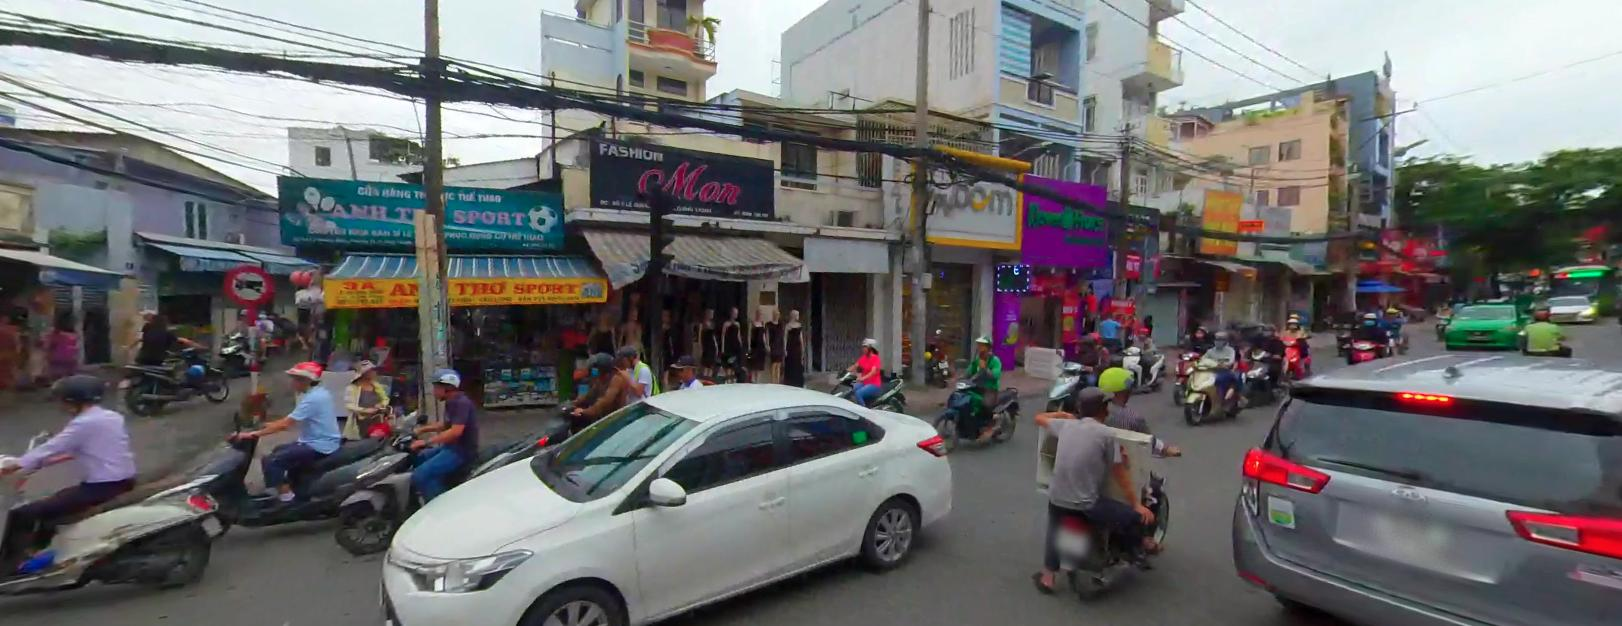Cam con lai: (223, 262, 272, 303)
Cam dung va do: (224, 263, 273, 303)
